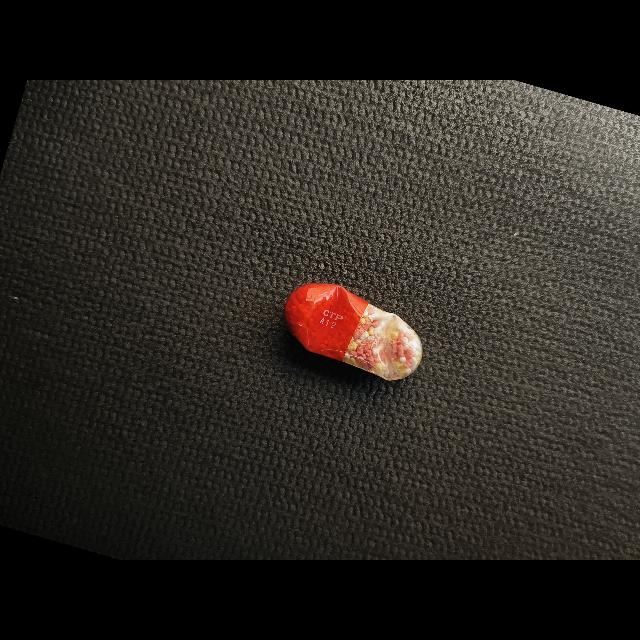Defective Capsule: (284, 283, 423, 381)
